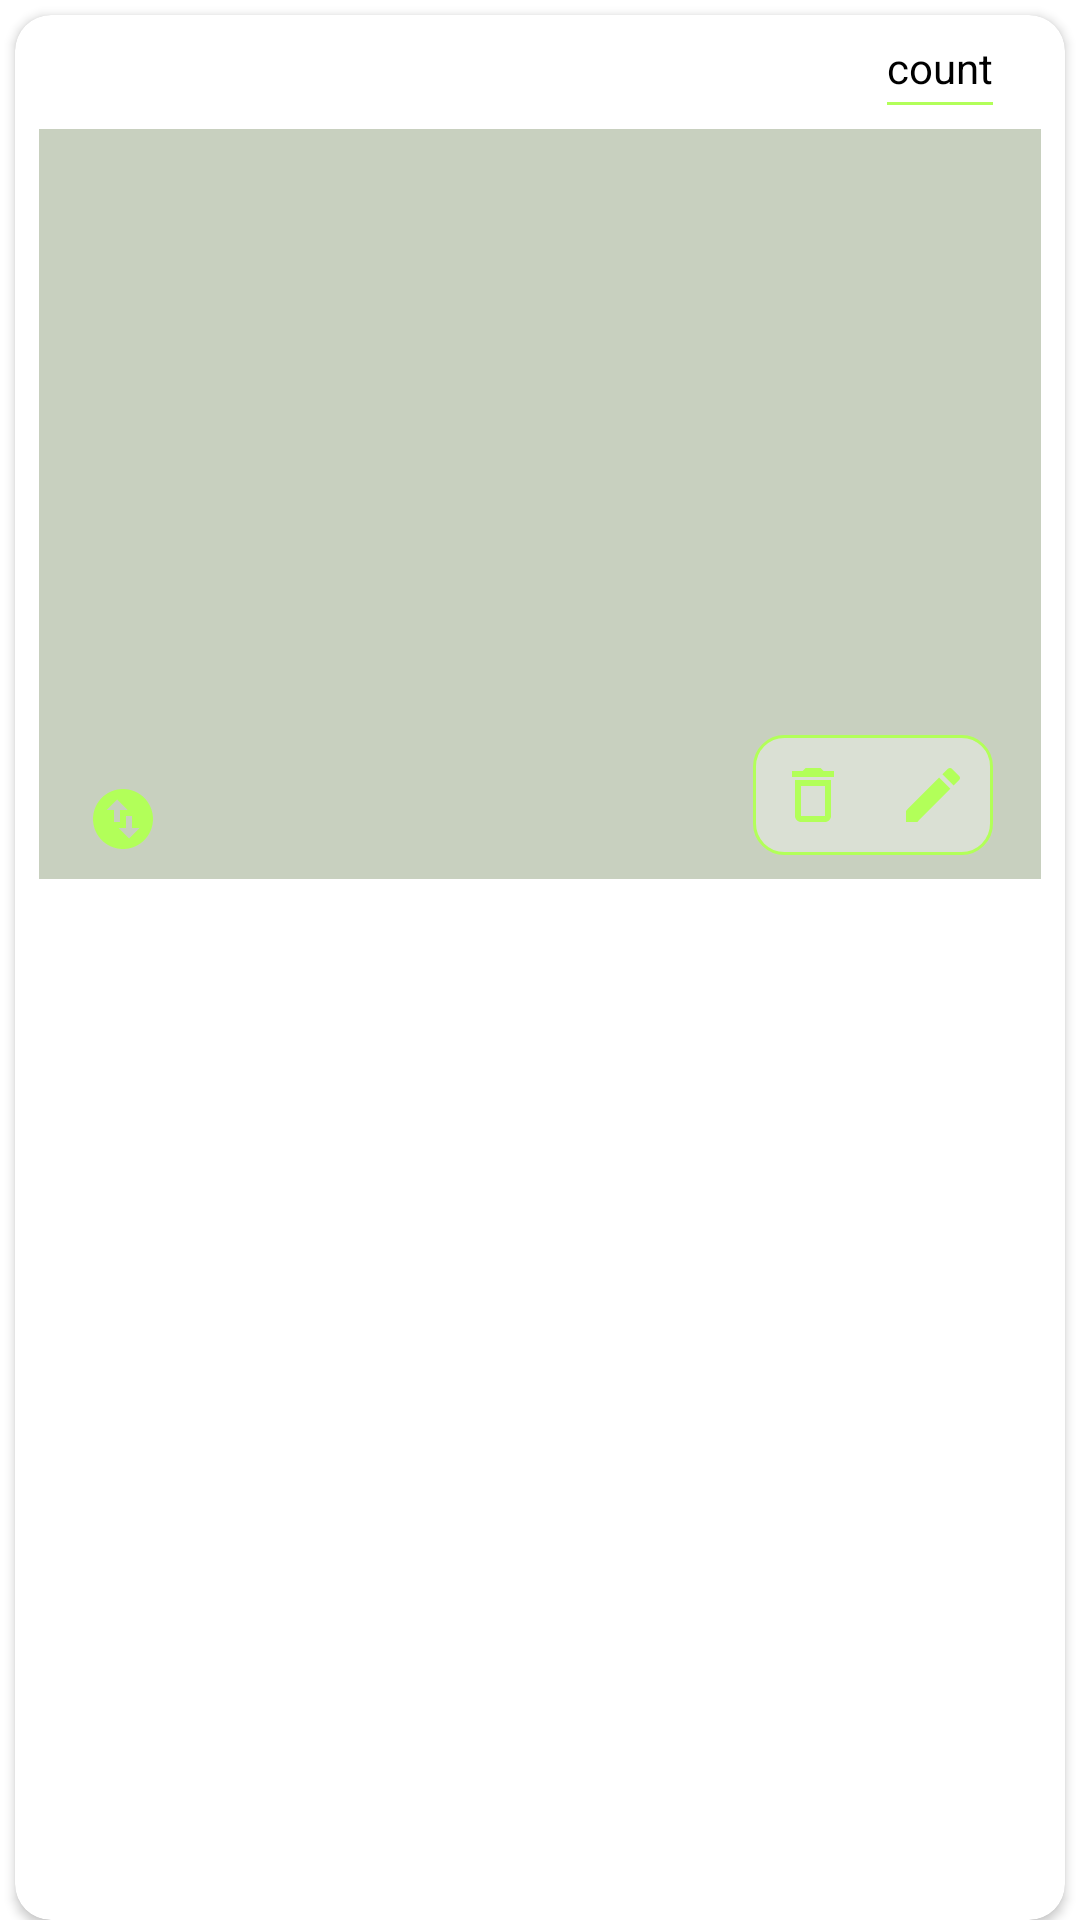

Named icons in this screenshot (1080px x 1920px) and their bounding boxes, (x1, y1, x2, y2):
delete: (792, 768, 834, 822)
drag: (93, 789, 153, 849)
edit: (906, 768, 960, 822)
